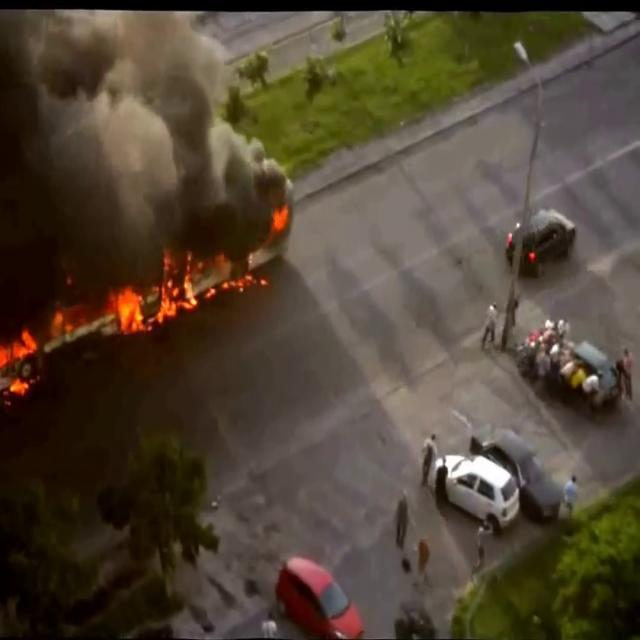Fire: (104, 248, 203, 334), (0, 319, 40, 385), (271, 196, 291, 240)
Smoke: (0, 5, 277, 332)
